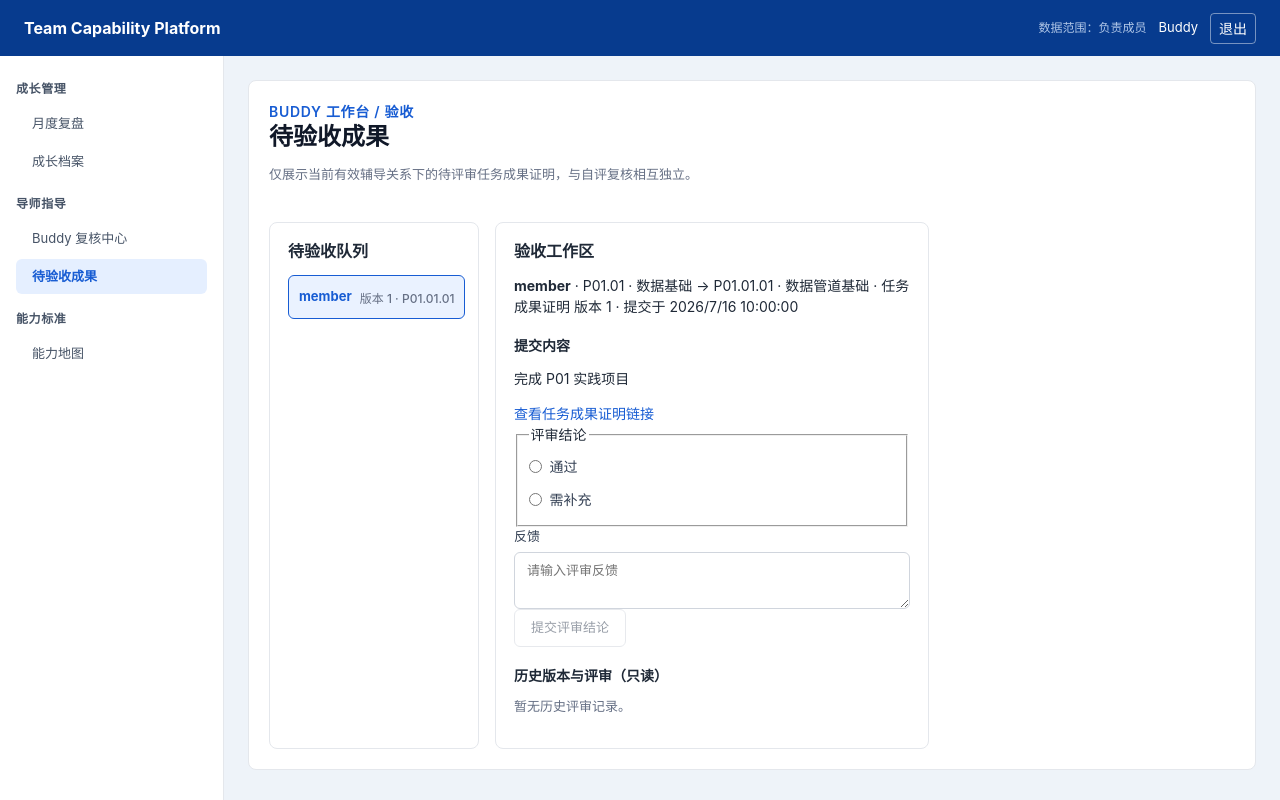
EvidenceReviewPage — standalone Buddy evidence queue › submits approval by evidence id with a fingerprint-bound key
The width and height of the screenshot is (1280, 800).
Expected: the heading "待验收成果" is shown, left=269, top=122, right=389, bottom=151
Click the radio button labelled "通过" at [535, 466], box left=528, top=460, right=542, bottom=473
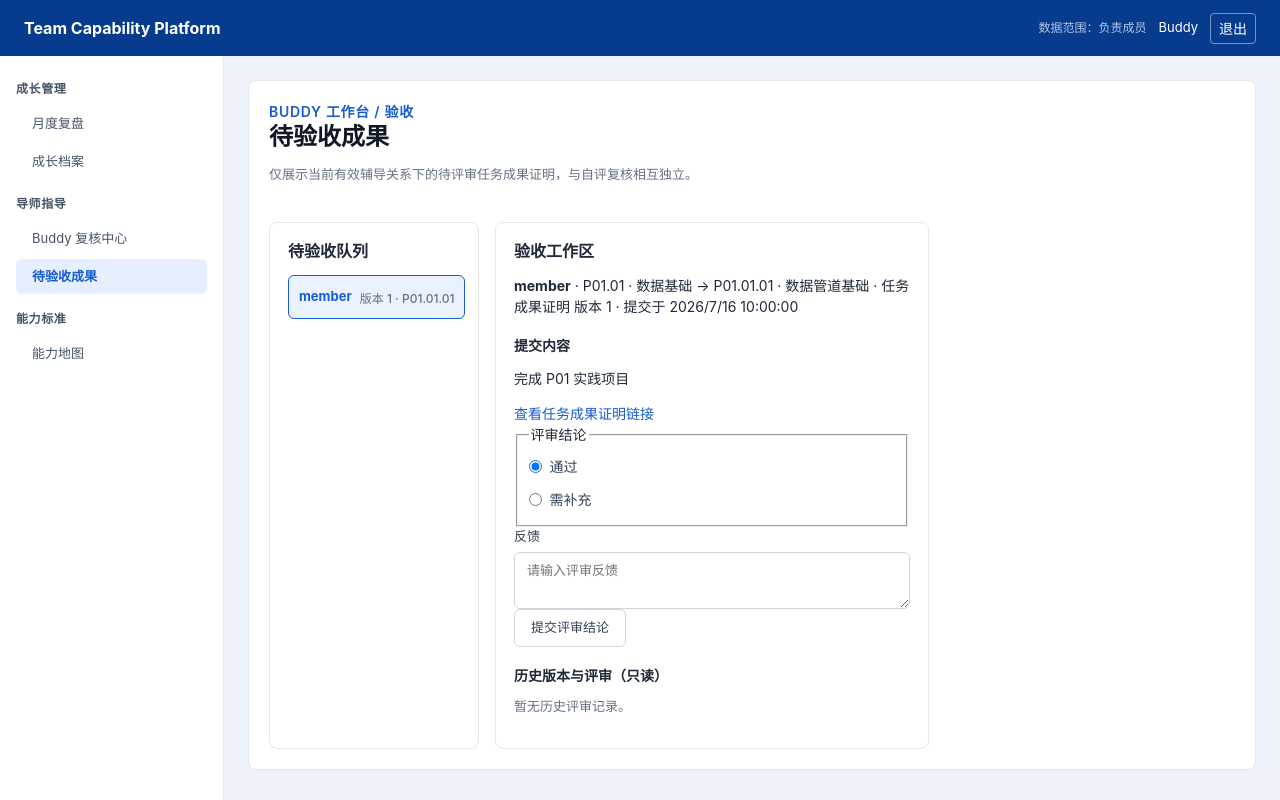
Type "符合预期" into the text box labelled "反馈" at [712, 581], box left=514, top=552, right=910, bottom=609
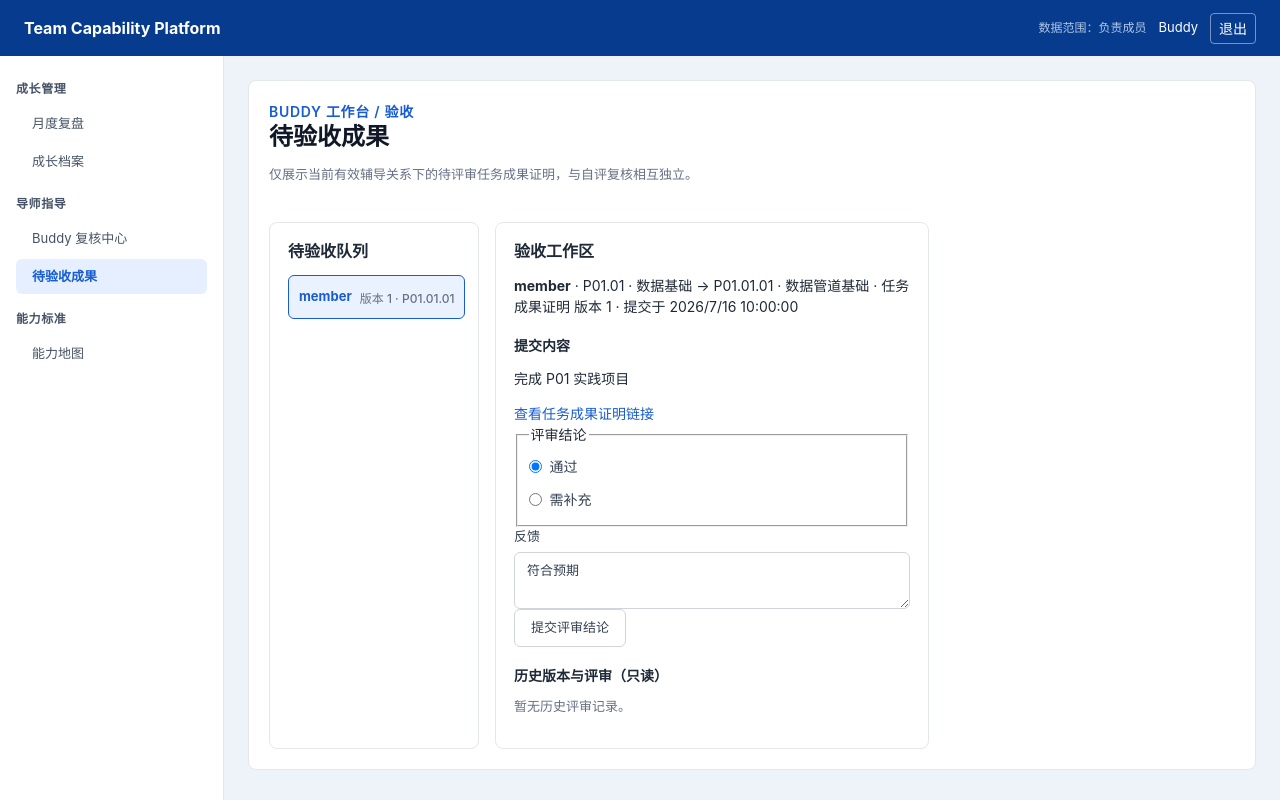
Click the button "提交评审结论" at [570, 628], box left=514, top=609, right=626, bottom=647
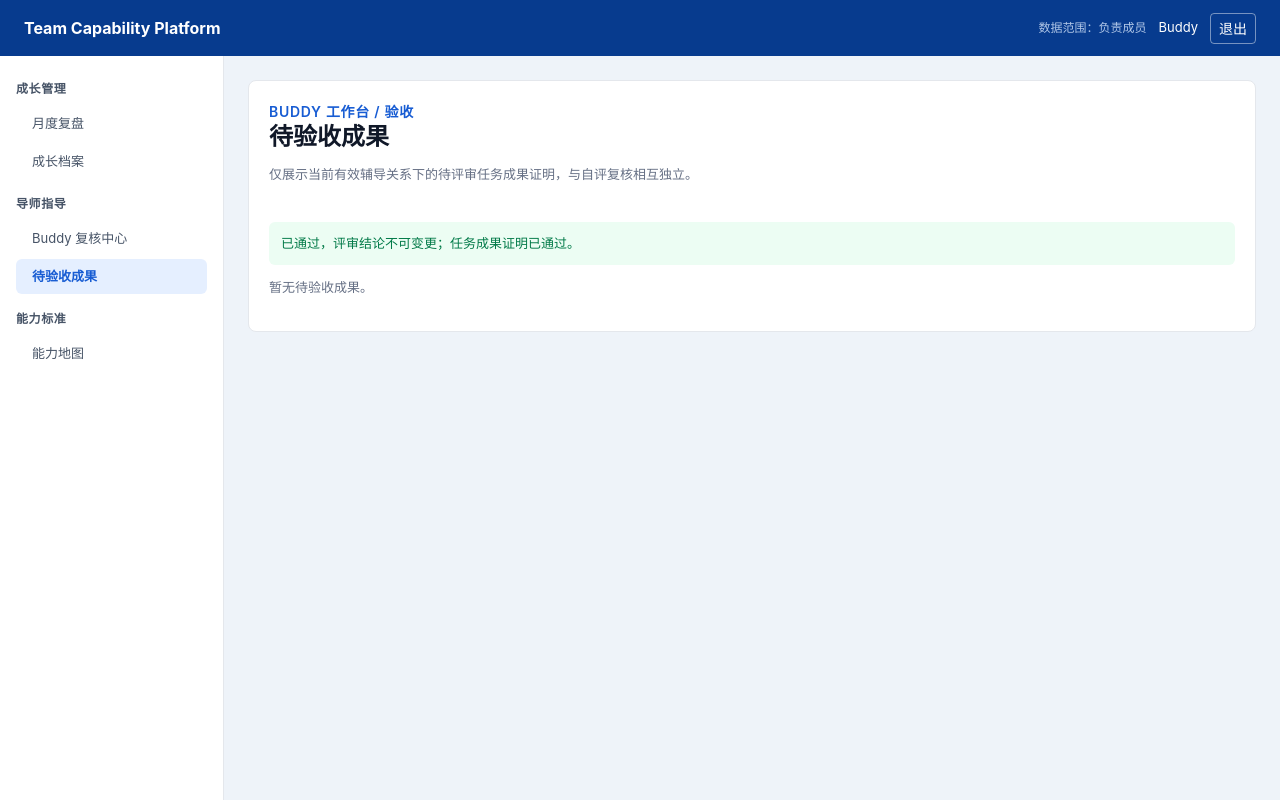
Expected: the text "已通过，评审结论不可变更；任务成果证明已通过。" is shown, left=269, top=222, right=1235, bottom=265
Expected: the text "完成 P01 实践项目" is gone
